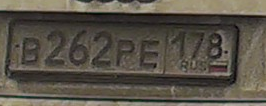character: (89, 24, 114, 70), (66, 25, 91, 69), (43, 27, 68, 69), (137, 35, 161, 73), (113, 35, 138, 71), (19, 35, 43, 69), (186, 25, 206, 62), (205, 25, 224, 61), (169, 27, 188, 61)
